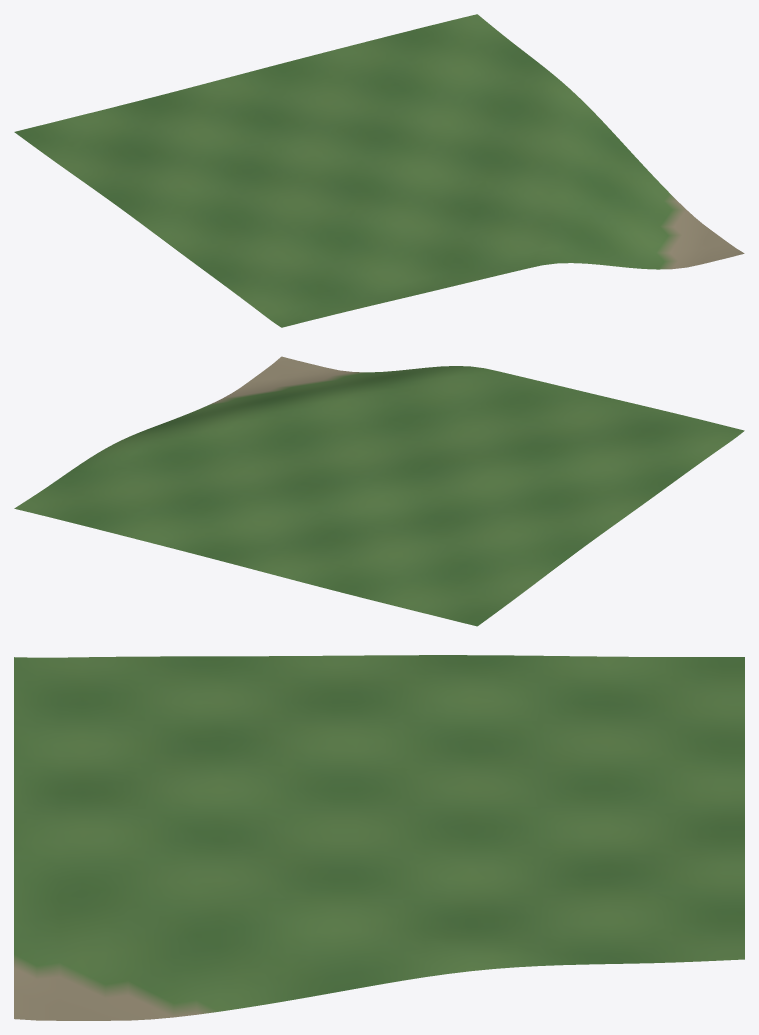
Rendered from chunk_4_11.glb.
3 renders of one model, top to bottom at view 1: azimuth 30°, elevation 25°; view 2: azimuth 150°, elevation 25°; view 3: azimuth 270°, elevation 25°, orthographic. The views are drawn at different scales.
Size of the model in its own units: 512 by 47.49 by 512.
